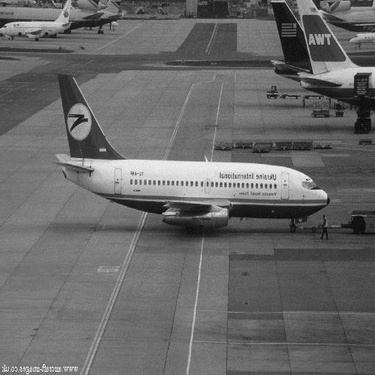airplane: (33, 60, 333, 239), (292, 1, 372, 112), (249, 4, 340, 84), (3, 1, 128, 33), (1, 3, 76, 38), (307, 1, 371, 40), (345, 30, 372, 47)
